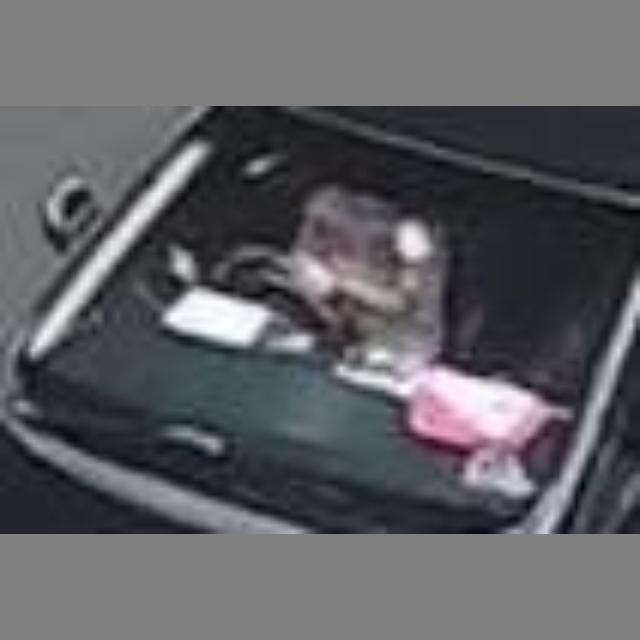tidak-pakai: (266, 160, 435, 366)
